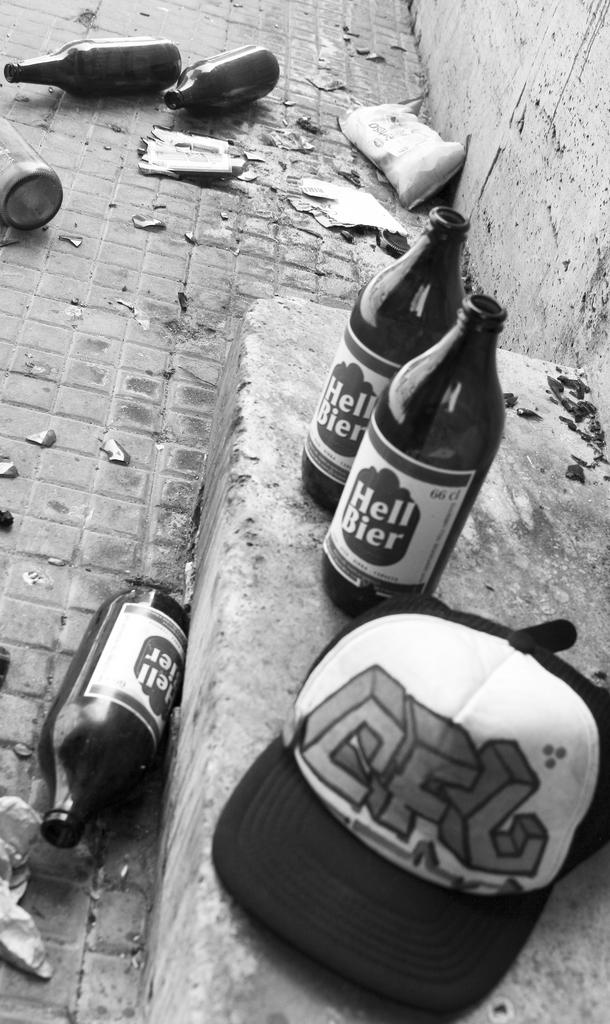Hat: (211, 596, 608, 1023)
